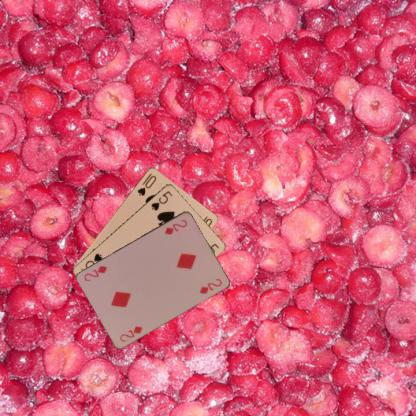10s: (134, 170, 158, 197)
2d: (117, 323, 144, 343), (162, 216, 188, 235)
5s: (148, 188, 174, 212)
